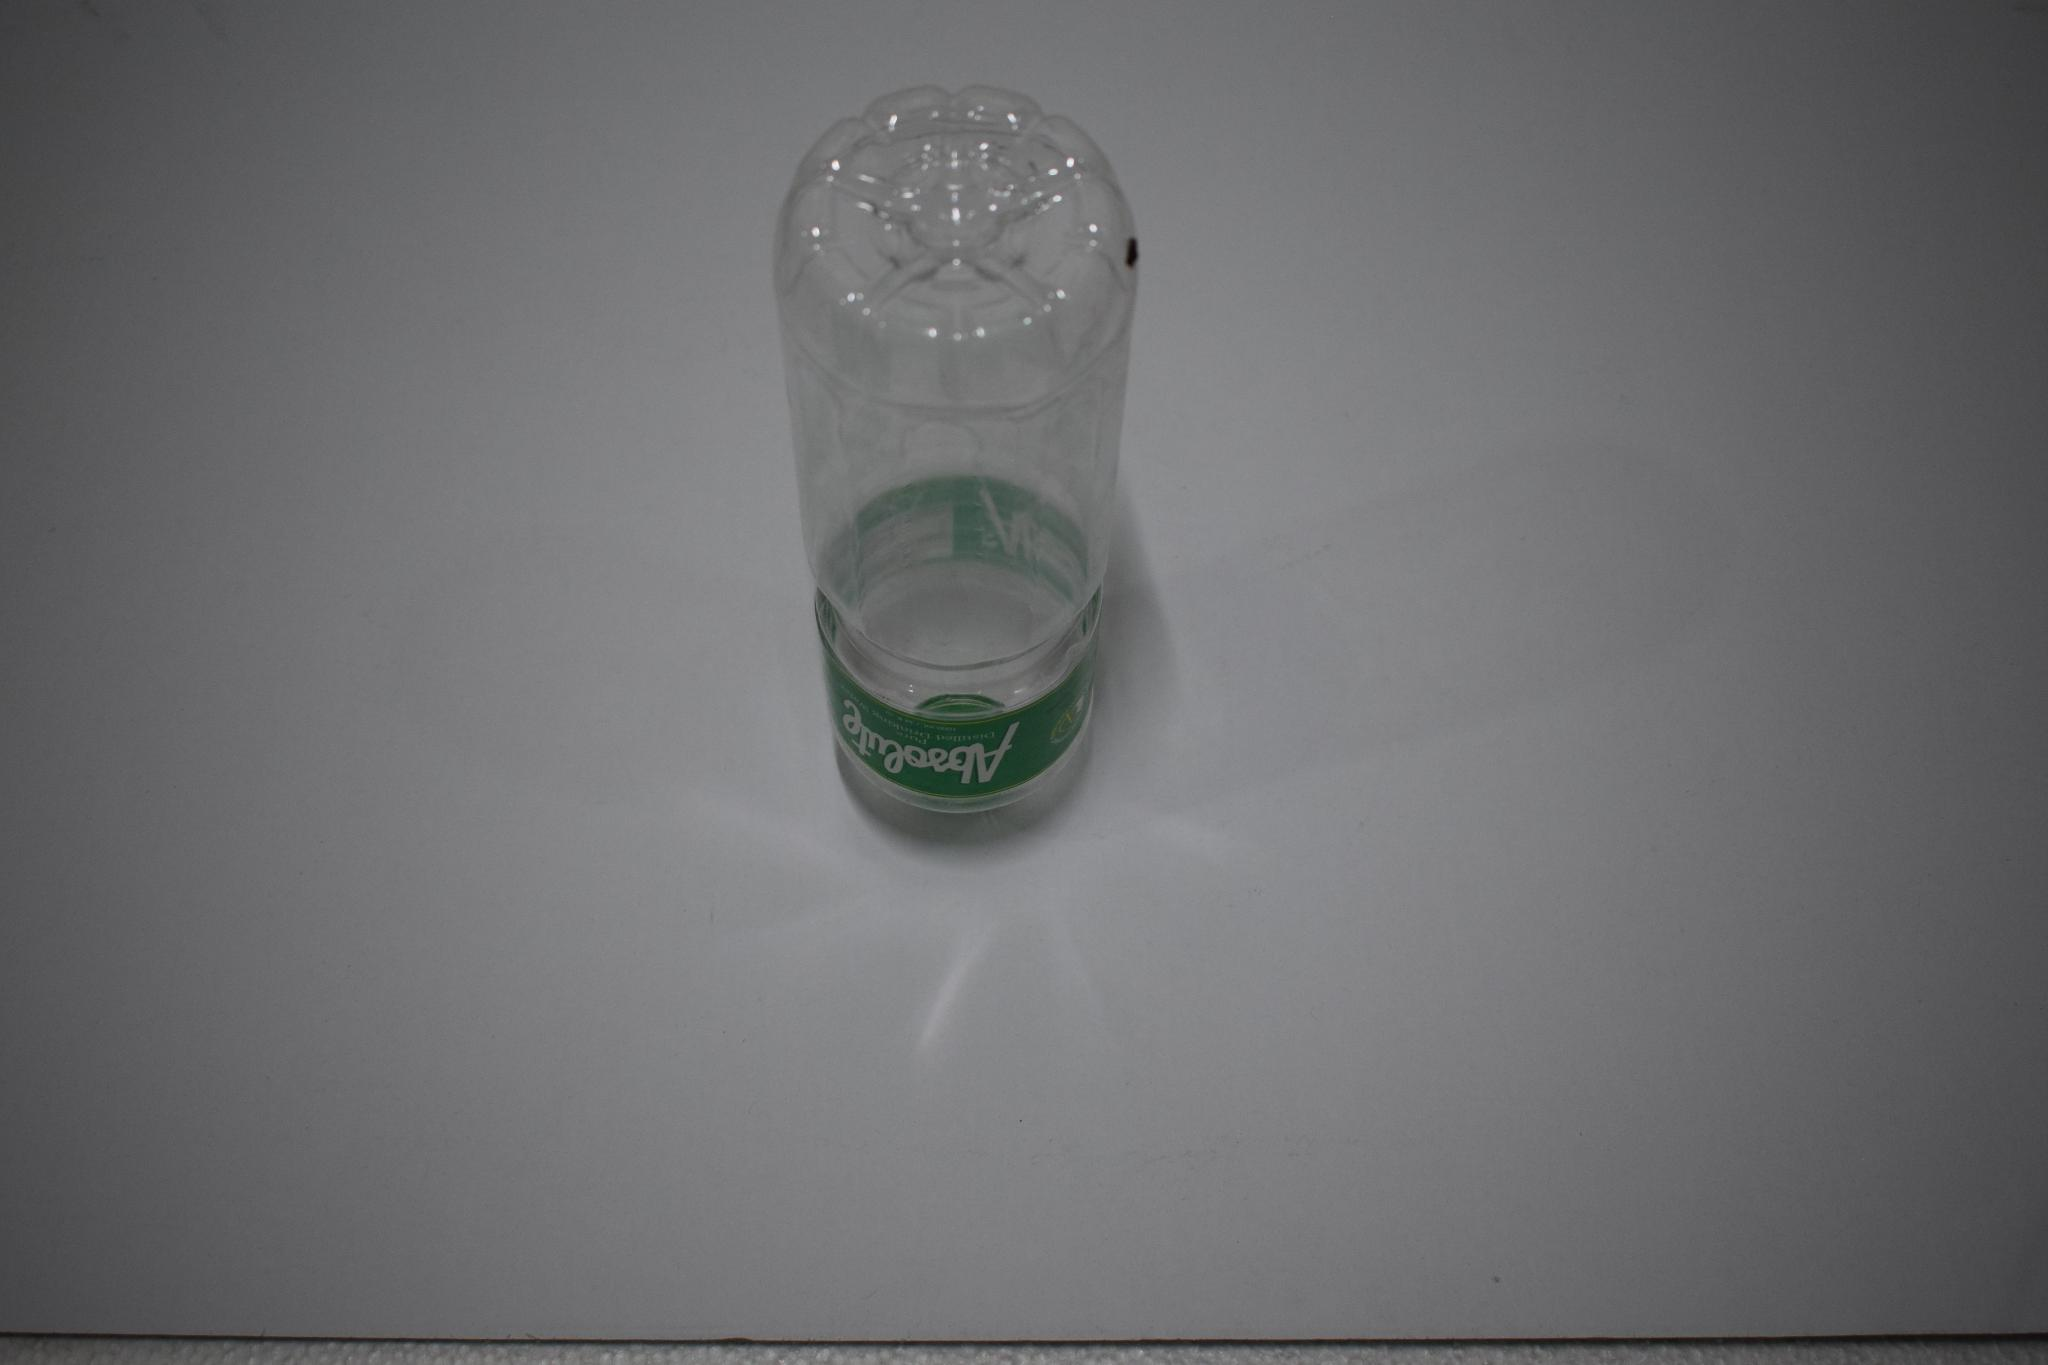bottle: (775, 94, 1144, 870)
